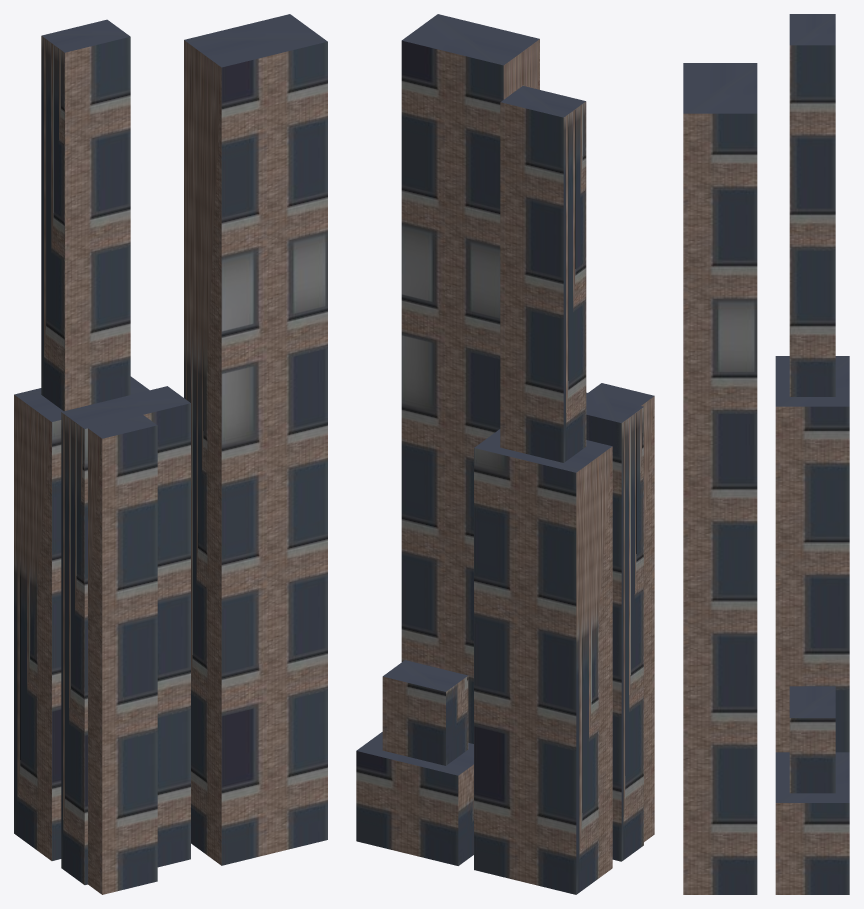
Rendered from block_22.obj.
3 views of the same model, side by side, from view 1: azimuth 30°, elevation 25°; view 2: azimuth 150°, elevation 25°; view 3: azimuth 270°, elevation 25° (orthographic). The views are drawn at different scales.
Parts seen in each view (by area): view 1: b3, b1, b0; view 2: b0, b3, b1, b2; view 3: b3, b0, b2.
Part boxes in pixels (x1,y1,x2,y2): b3: [184, 14, 327, 865]; b1: [61, 386, 190, 894]; b0: [14, 19, 149, 860]; b0: [474, 86, 612, 894]; b3: [401, 14, 539, 743]; b1: [586, 383, 654, 861]; b2: [356, 660, 473, 865]; b3: [683, 63, 757, 894]; b0: [775, 14, 849, 752]; b2: [775, 686, 849, 894].
Bounding box in the file's own units: 4.2 × 14 × 2.7.
